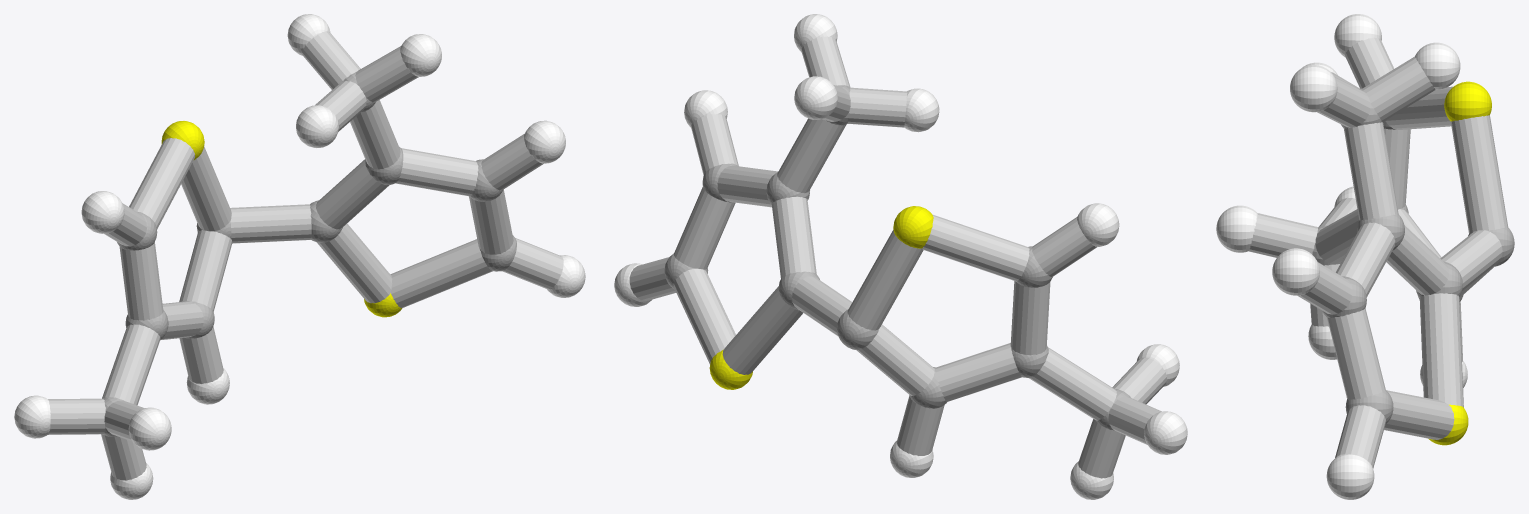
Rendered from Methylthiophene_Phi_60_Theta_30_Methylthiophene.glb.
3 views of the same model, side by side, from view 1: azimuth 30°, elevation 25°; view 2: azimuth 150°, elevation 25°; view 3: azimuth 270°, elevation 25° (orthographic). The views are drawn at different scales.
Visible parts, largest first — view 1: grp7965, grp3621, grp1, grp7241; view 2: grp7965, grp3621, grp1, grp7241; view 3: grp7965, grp3621, grp1, grp7241.
Part boxes in pixels (bbox=[...]): grp7965: bbox=[48, 31, 563, 480]; grp3621: bbox=[14, 14, 585, 499]; grp1: bbox=[103, 71, 516, 436]; grp7241: bbox=[161, 121, 401, 317]; grp7965: bbox=[629, 36, 1166, 478]; grp3621: bbox=[614, 14, 1187, 499]; grp1: bbox=[664, 85, 1130, 430]; grp7241: bbox=[709, 206, 933, 389]; grp7965: bbox=[1248, 37, 1508, 468]; grp3621: bbox=[1216, 14, 1467, 499]; grp1: bbox=[1312, 88, 1514, 424]; grp7241: bbox=[1428, 81, 1491, 445].
Bounding box in the file's own units: 9.02 × 6.13 × 3.75.
